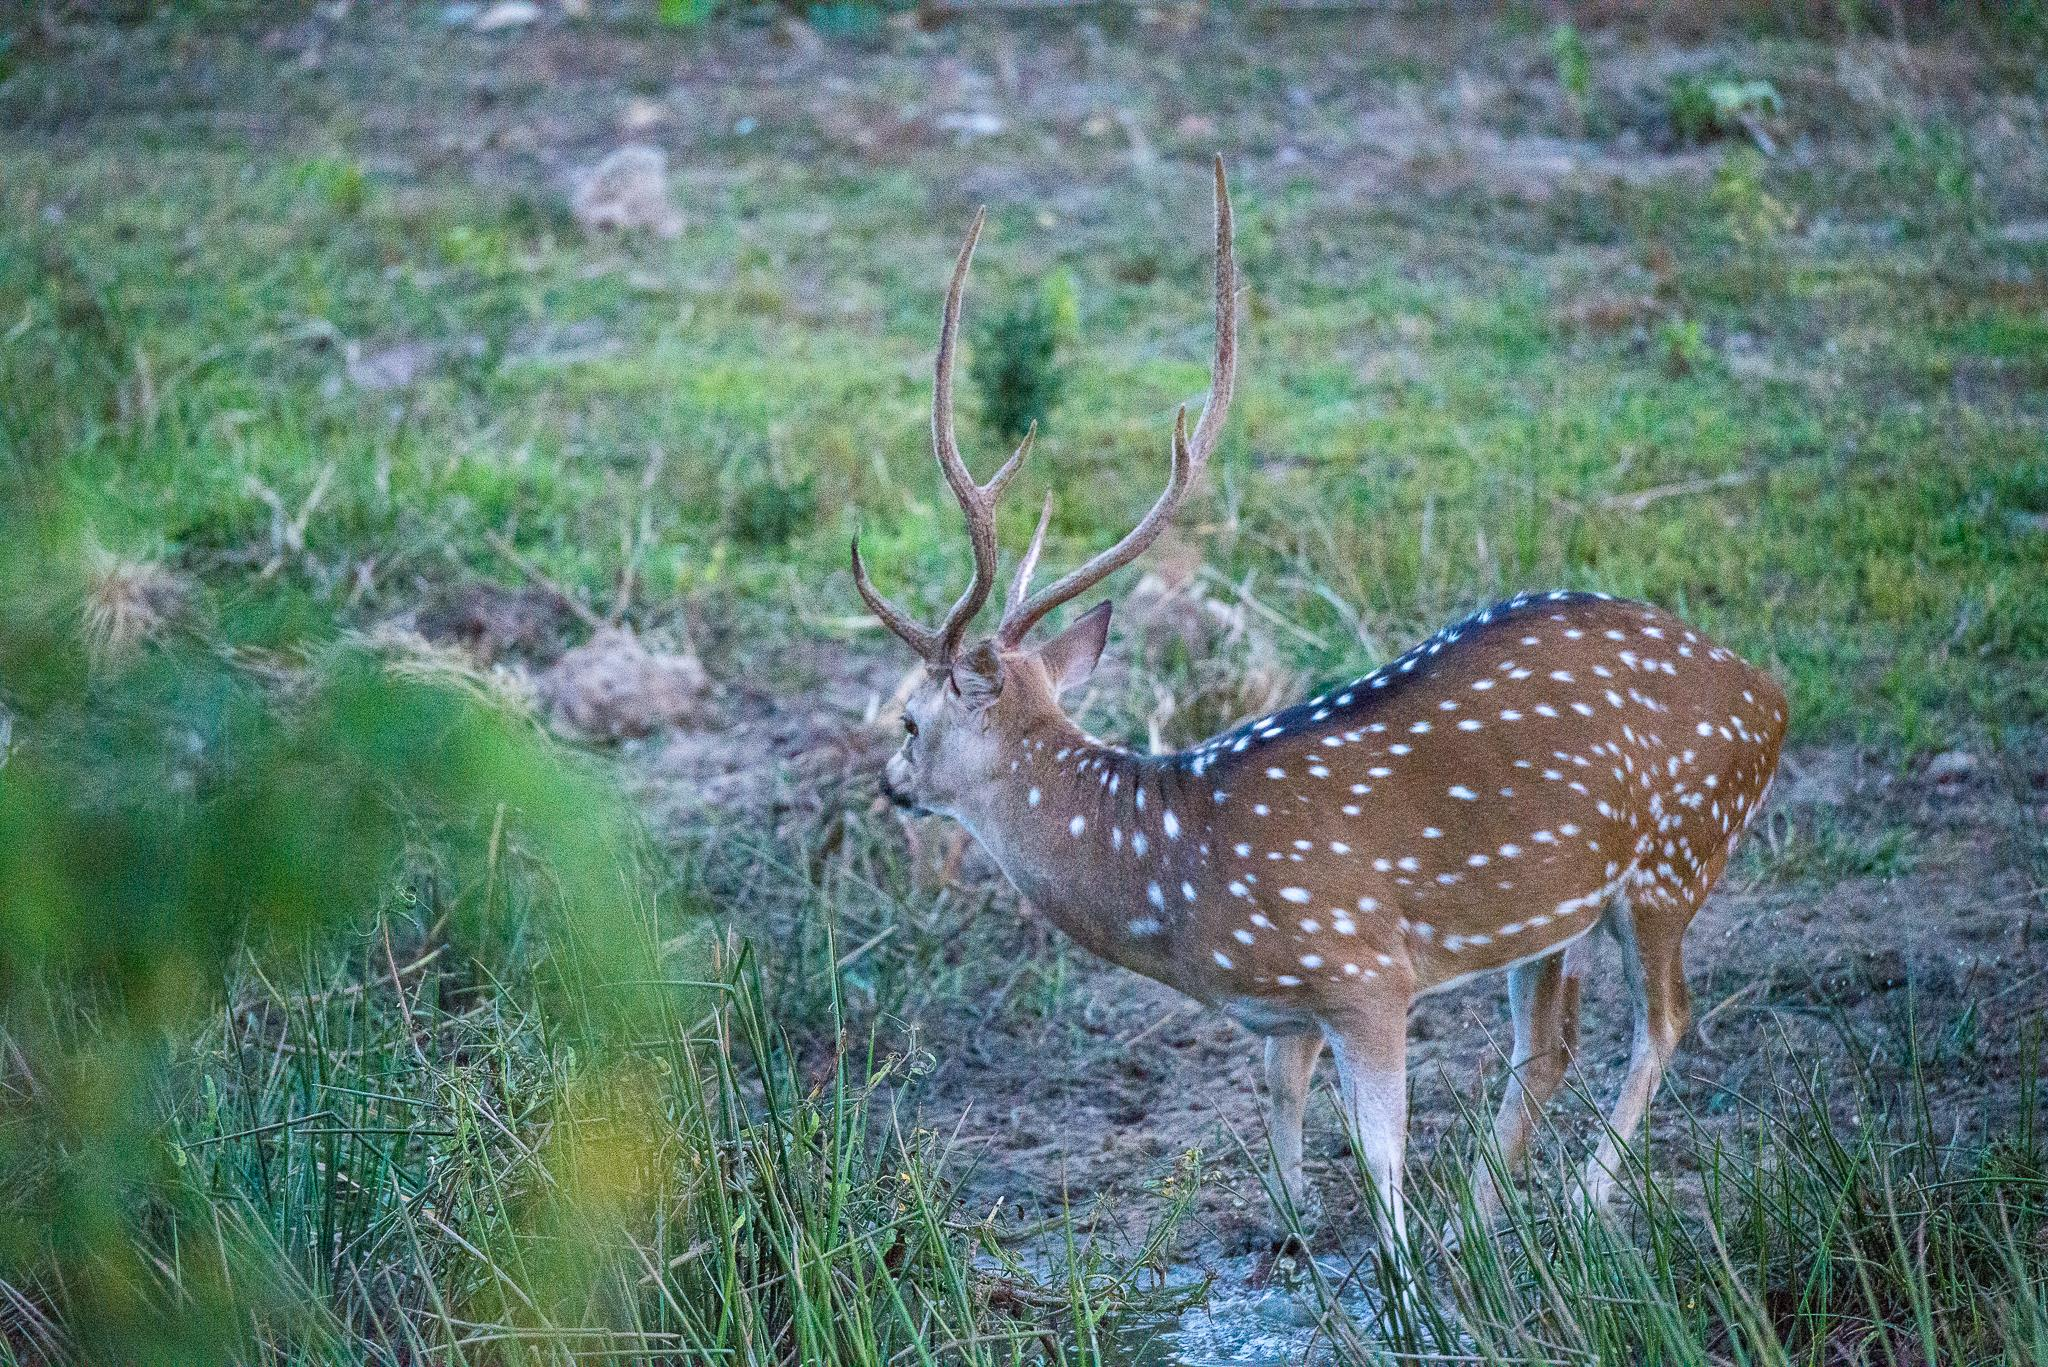Deer: (852, 160, 1786, 1243)
